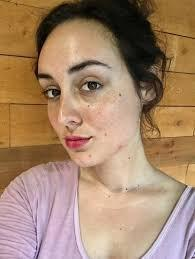Drunk: (36, 33, 124, 165)
